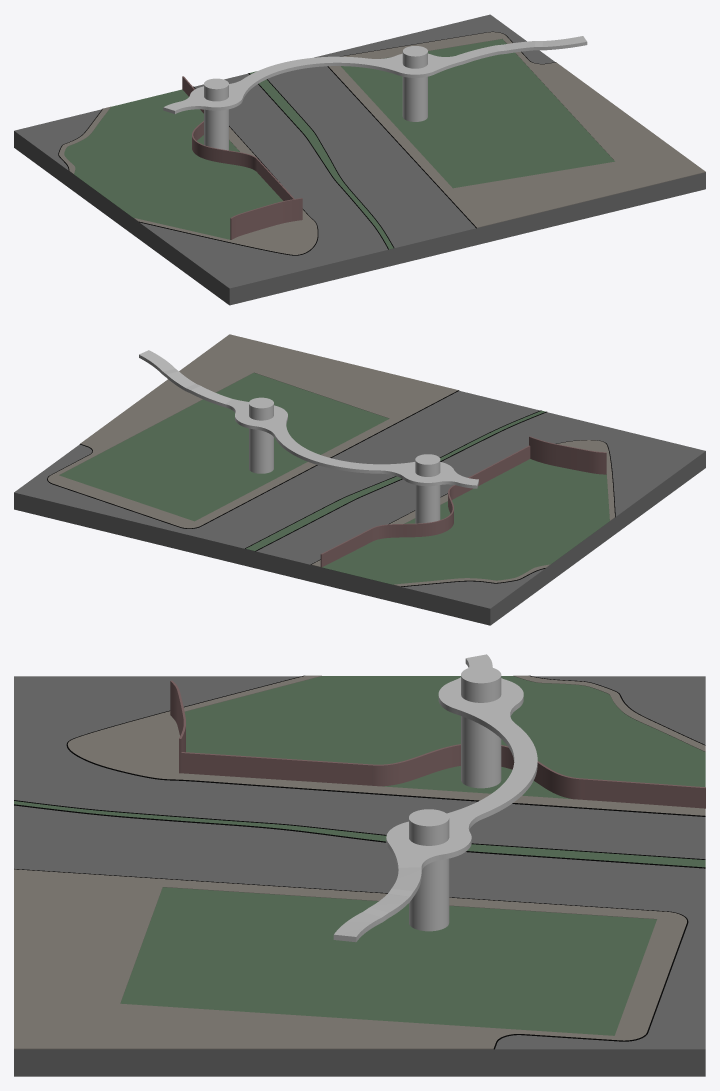
3 views of the same model, one above another, from view 1: azimuth 30°, elevation 25°; view 2: azimuth 150°, elevation 25°; view 3: azimuth 270°, elevation 25° (orthographic). The views are drawn at different scales.
Parts seen in each view (by area): view 1: asphalt, grass, pavement, Surface, fence, Core, curb; view 2: asphalt, grass, pavement, Surface, fence, Core, curb; view 3: asphalt, grass, pavement, fence, Surface, Core, curb.
Boxes of the visible parts, x1,y1,x2,y2 form: asphalt: (14,14,705,305); grass: (64,39,614,249); pavement: (59,32,705,254); Surface: (163,36,587,113); fence: (182,76,302,239); Core: (204,46,427,150); curb: (58,31,555,255); asphalt: (14,391,705,625); grass: (59,373,609,584); pavement: (48,334,614,586); Surface: (139,350,478,488); fence: (320,436,606,567); Core: (249,397,440,523); curb: (47,390,615,586); asphalt: (14,676,705,1076); grass: (14,676,705,1035); pavement: (14,675,705,1049); fence: (170,680,705,808); Surface: (333,654,537,942); Core: (409,666,501,931); curb: (14,675,705,1049).
Bounding box in the file's own units: 114 × 18.88 × 89.24.
